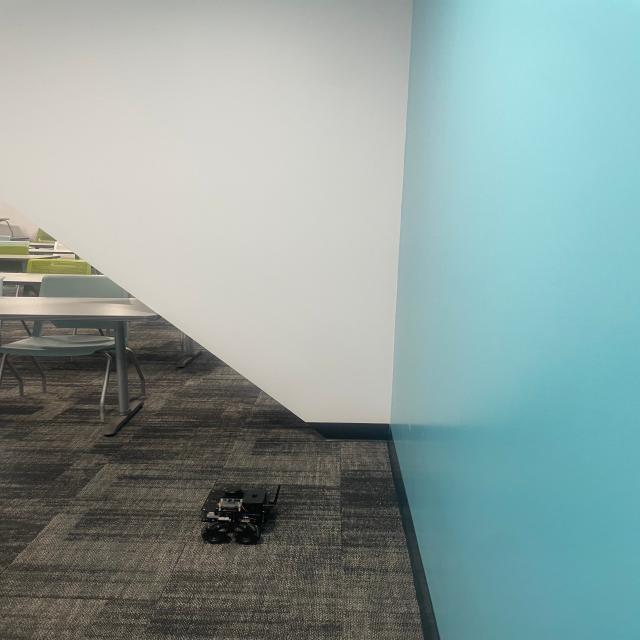ArduinoCar3: (195, 476, 288, 545)
